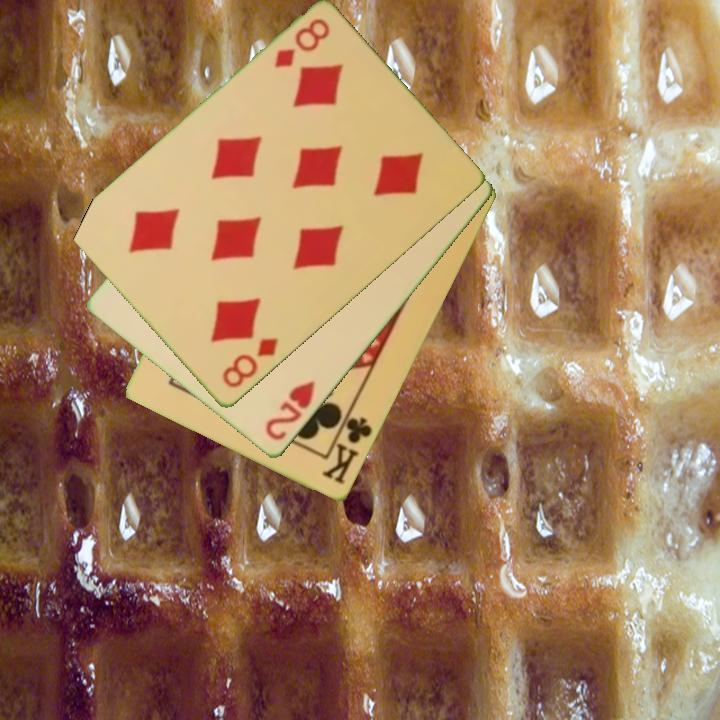2h: (262, 378, 318, 444)
8d: (218, 335, 281, 392), (270, 15, 333, 72)
Kc: (318, 406, 376, 488)
